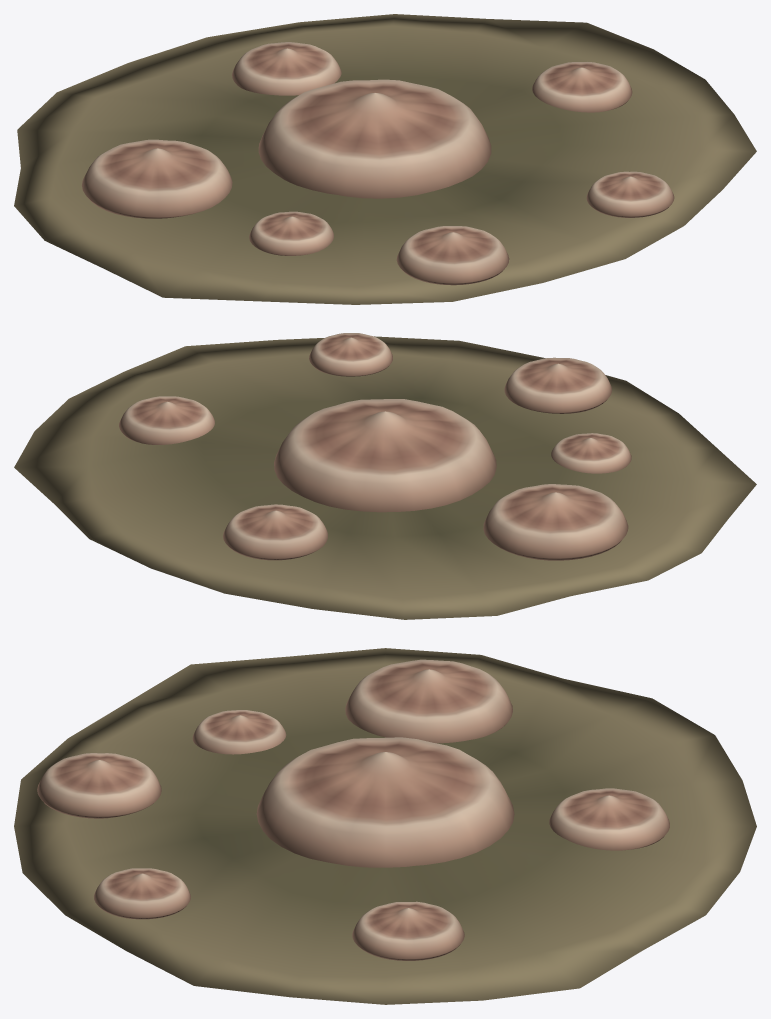
The model's file is Aspidella.fbx.
3 renders of one model, top to bottom at view 1: azimuth 30°, elevation 25°; view 2: azimuth 150°, elevation 25°; view 3: azimuth 270°, elevation 25°, orthographic. The views are drawn at different scales.
Visible parts, largest first — view 1: Aspidella; view 2: Aspidella; view 3: Aspidella.
Part boxes in pixels (<box>): Aspidella: <box>14,14,756,304</box>; Aspidella: <box>14,333,756,619</box>; Aspidella: <box>14,648,756,1004</box>.
Bounding box in the file's own units: 1.7 × 0.1651 × 1.5.
